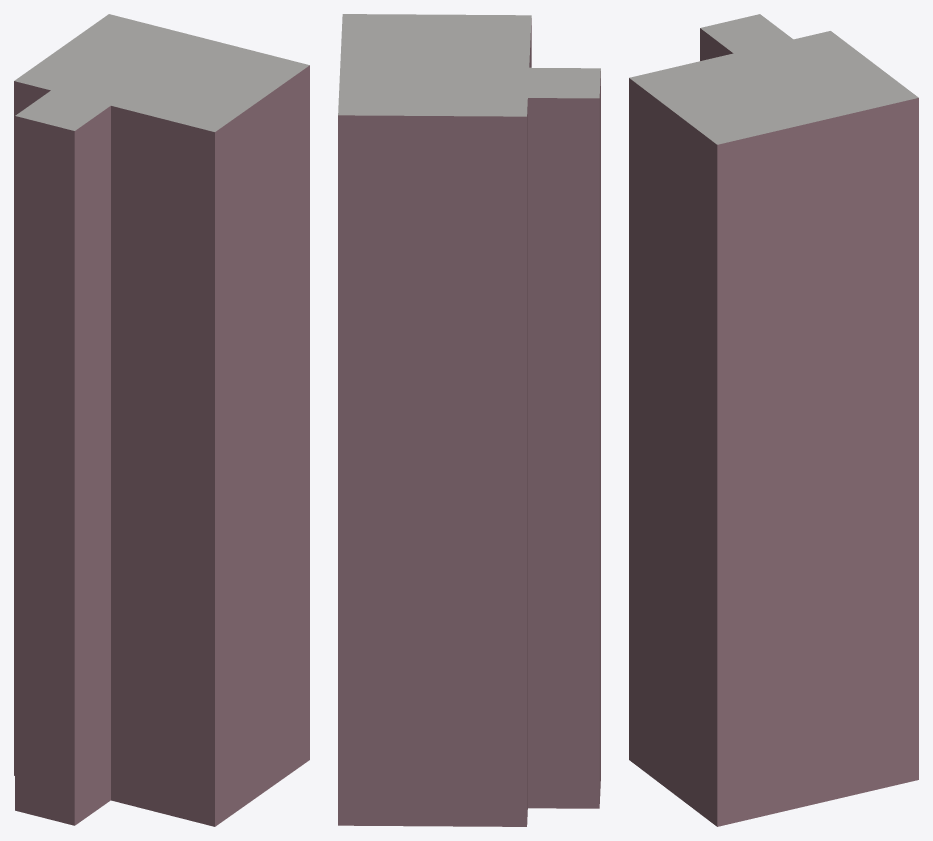
Rendered from nyc-1083717-0.glb.
The picture shows the model from 3 angles, left to right: view 1: azimuth 30°, elevation 25°; view 2: azimuth 150°, elevation 25°; view 3: azimuth 270°, elevation 25°; orthographic projection. The views are drawn at different scales.
Parts seen in each view (by area): view 1: nyc-1083717-0; view 2: nyc-1083717-0; view 3: nyc-1083717-0.
Part boxes in pixels (bbox=[...]): nyc-1083717-0: bbox=[14, 14, 309, 826]; nyc-1083717-0: bbox=[338, 14, 600, 826]; nyc-1083717-0: bbox=[629, 14, 918, 826].
Bounding box in the file's own units: 69.03 × 168 × 64.63.
